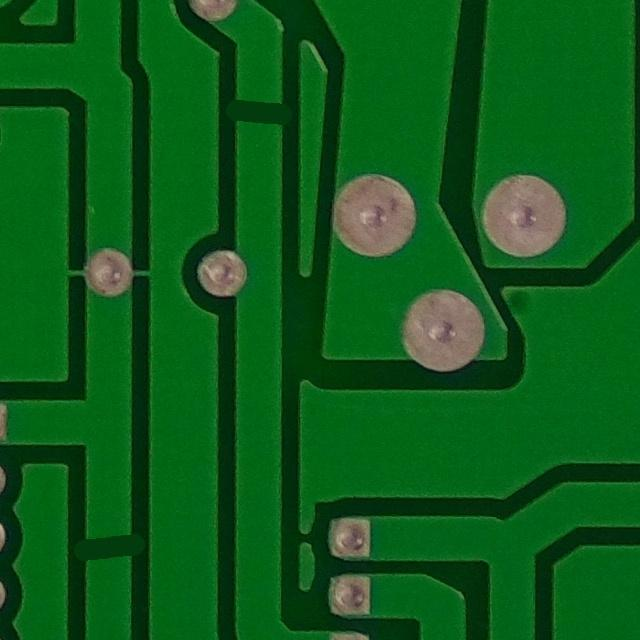open_circuit: (230, 75, 291, 146), (71, 521, 150, 573)
